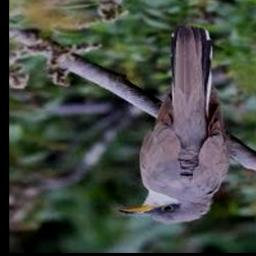Cuckoo: (119, 26, 231, 225)
